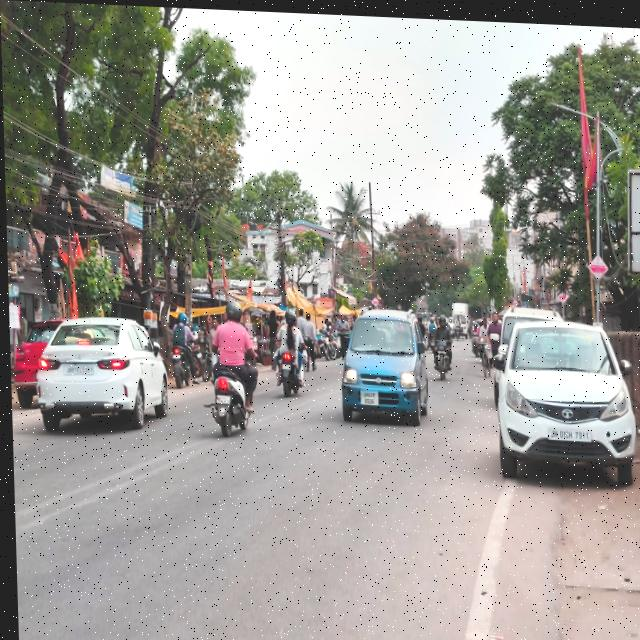bike: (200, 366, 248, 440), (272, 341, 298, 397), (170, 339, 193, 388), (432, 329, 452, 380)
car: (495, 315, 639, 485), (30, 310, 171, 443), (333, 299, 428, 438)
